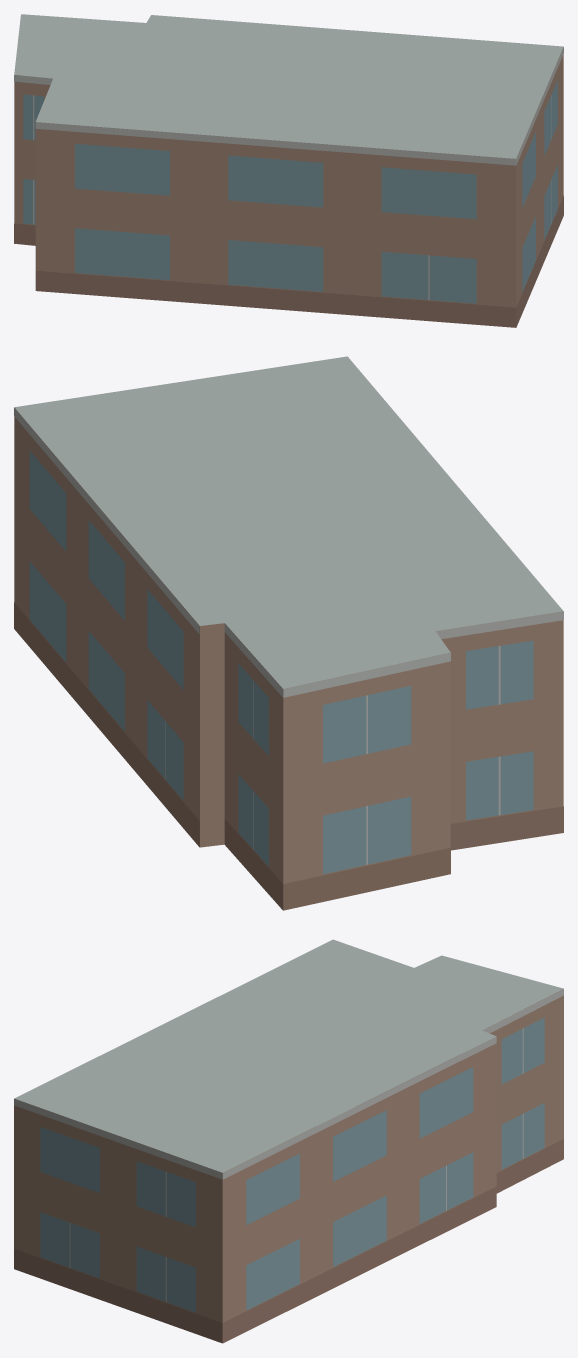
The model's file is survey-upis-32890653.glb.
The picture shows the model from 3 angles, top to bottom: view 1: azimuth 30°, elevation 25°; view 2: azimuth 150°, elevation 25°; view 3: azimuth 270°, elevation 25°; orthographic projection. The views are drawn at different scales.
Parts seen in each view (by area): view 1: survey-upis-32890653.tmp; view 2: survey-upis-32890653.tmp; view 3: survey-upis-32890653.tmp.
Boxes of the visible parts, x1=… form: survey-upis-32890653.tmp: x1=14, y1=14, x2=563, y2=327; survey-upis-32890653.tmp: x1=14, y1=356, x2=563, y2=910; survey-upis-32890653.tmp: x1=14, y1=939, x2=563, y2=1343.
Bounding box in the file's own units: 17.91 × 6.1 × 17.83.
